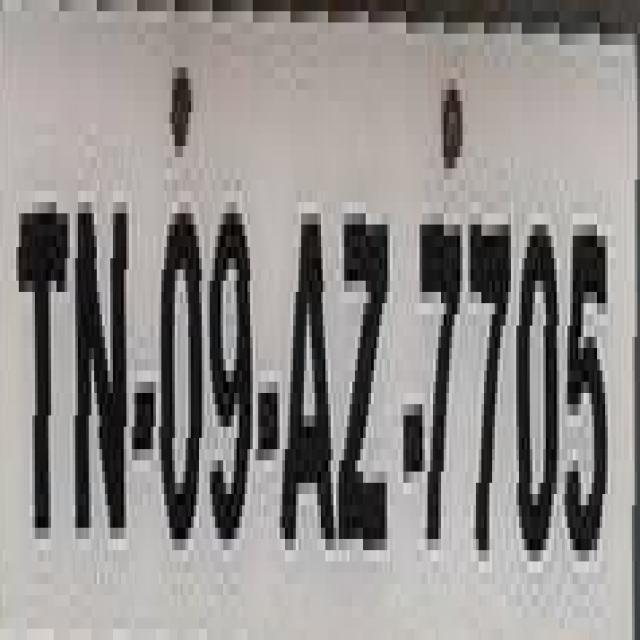license_plate: (2, 22, 608, 640)
